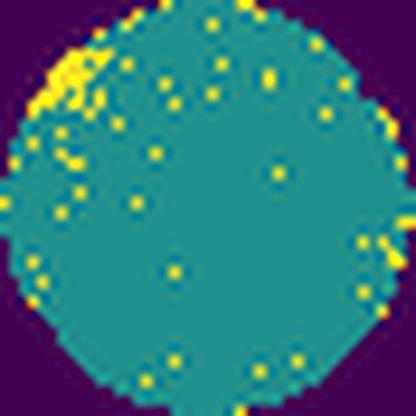Edge-Loc: (24, 36, 114, 125)
